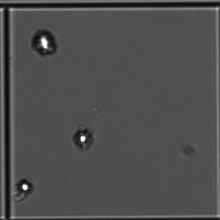Living Cell: (28, 26, 59, 56), (70, 126, 97, 151), (13, 176, 36, 199)
